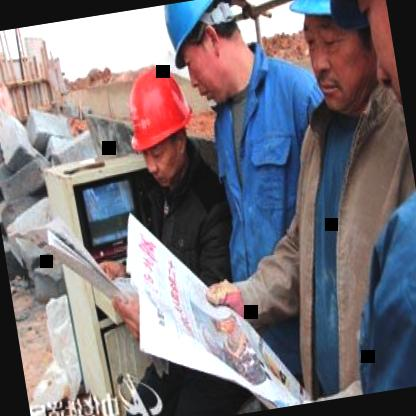helmet: (156, 0, 269, 124), (113, 53, 206, 194), (280, 0, 381, 118), (320, 0, 405, 133)
